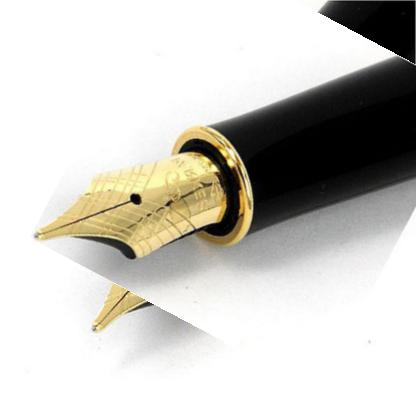Pen: (59, 0, 415, 364)
